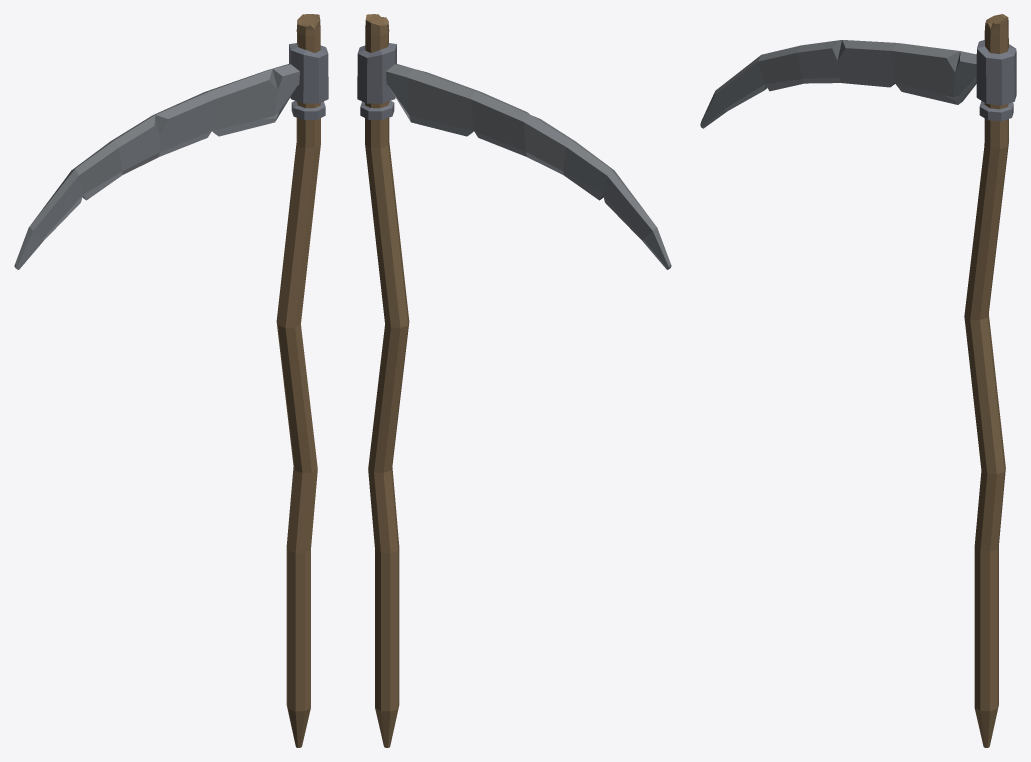
The model's file is WF_LP_HT_Props_Scythe.fbx.
3 views of the same model, side by side, from view 1: azimuth 30°, elevation 25°; view 2: azimuth 150°, elevation 25°; view 3: azimuth 330°, elevation 25° (orthographic).
Parts seen in each view (by area): view 1: WF_LP_HT_Props_Scythe; view 2: WF_LP_HT_Props_Scythe; view 3: WF_LP_HT_Props_Scythe.
Boxes of the visible parts, x1,y1,x2,y2 form: WF_LP_HT_Props_Scythe: (14, 14, 328, 747); WF_LP_HT_Props_Scythe: (357, 14, 671, 747); WF_LP_HT_Props_Scythe: (700, 14, 1016, 747).
Size of the model in its own units: 0.7367 by 1.64 by 0.0846.
